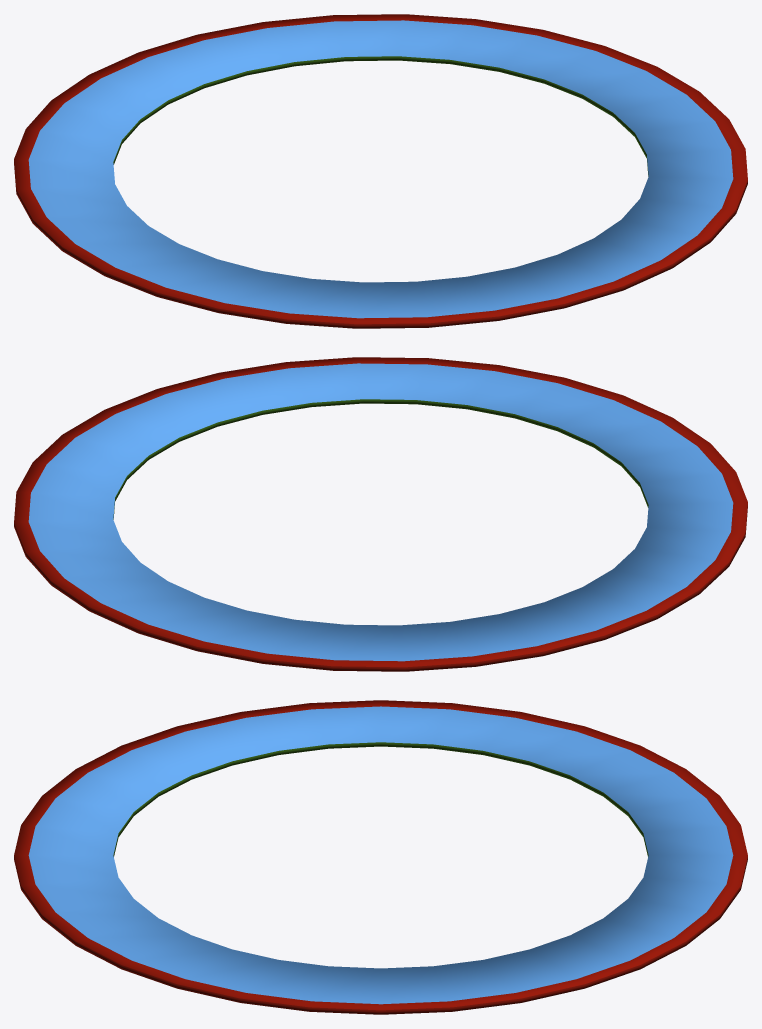
Rendered from RingPath.fbx.
The picture shows the model from 3 angles, top to bottom: view 1: azimuth 30°, elevation 25°; view 2: azimuth 150°, elevation 25°; view 3: azimuth 270°, elevation 25°; orthographic projection.
Visible parts, largest first — view 1: RingPath; view 2: RingPath; view 3: RingPath.
Part boxes in pixels (box(x1,y1,x2,y2)): RingPath: box(14, 14, 747, 328); RingPath: box(14, 357, 747, 671); RingPath: box(14, 700, 747, 1014).
Bounding box in the file's own units: 6449 × 43.13 × 6449.
